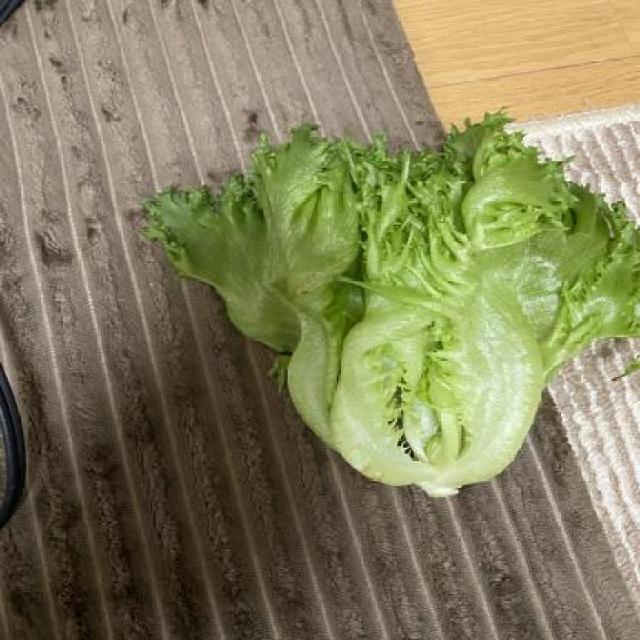Lettuce: (142, 101, 640, 504)
